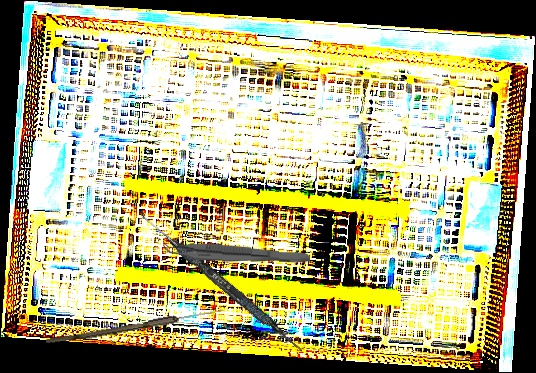Spatula Surgical: (133, 209, 308, 354)
Surgical Spoon: (45, 304, 225, 349)
Tissue Forceps: (162, 239, 311, 265)
